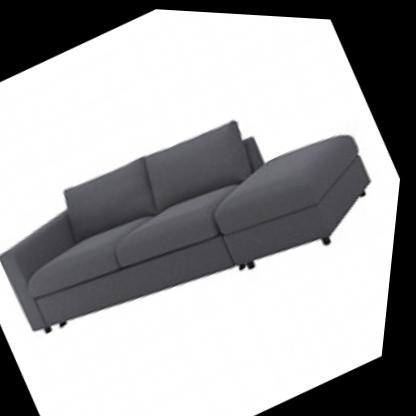Sofa: (0, 37, 405, 394)
